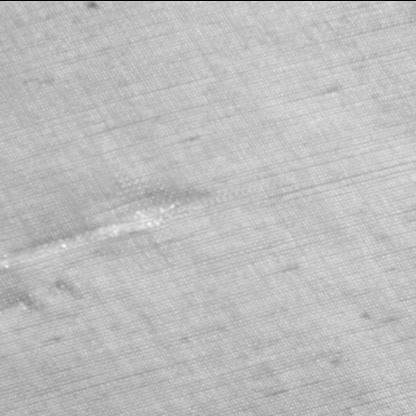thread error: (1, 184, 227, 268)
